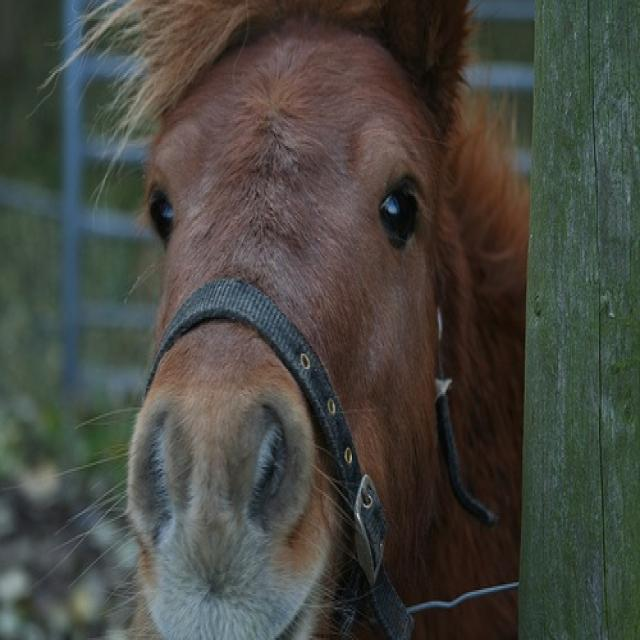horse: (22, 0, 531, 638)
